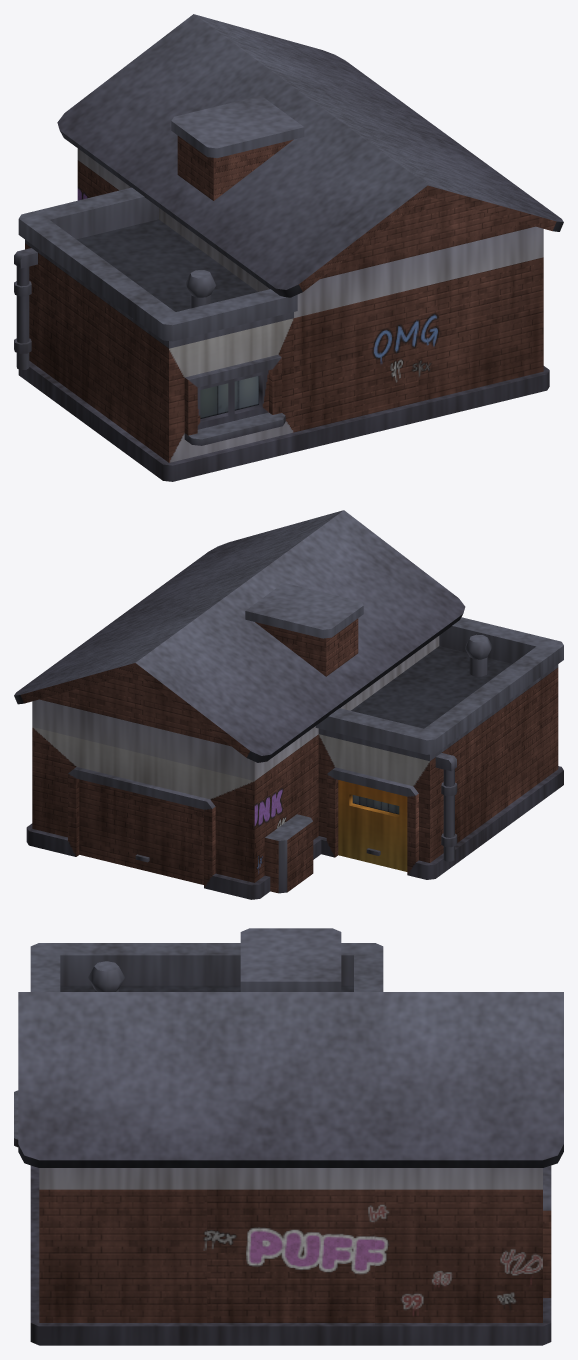
File: building-h-brown-scuffed.glb
The picture shows the model from 3 angles, top to bottom: view 1: azimuth 30°, elevation 25°; view 2: azimuth 150°, elevation 25°; view 3: azimuth 270°, elevation 25°; orthographic projection. The views are drawn at different scales.
Parts seen in each view (by area): view 1: building-h; view 2: building-h; view 3: building-h.
Part boxes in pixels (x1=…): building-h: x1=14, y1=14, x2=563, y2=481; building-h: x1=14, y1=510, x2=563, y2=899; building-h: x1=14, y1=928, x2=563, y2=1345.
Bounding box in the file's own units: 1.32 × 0.7335 × 1.31.
Materials: 1 (1 with a texture image).
